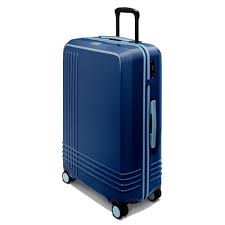suitcase: (56, 7, 164, 220)
